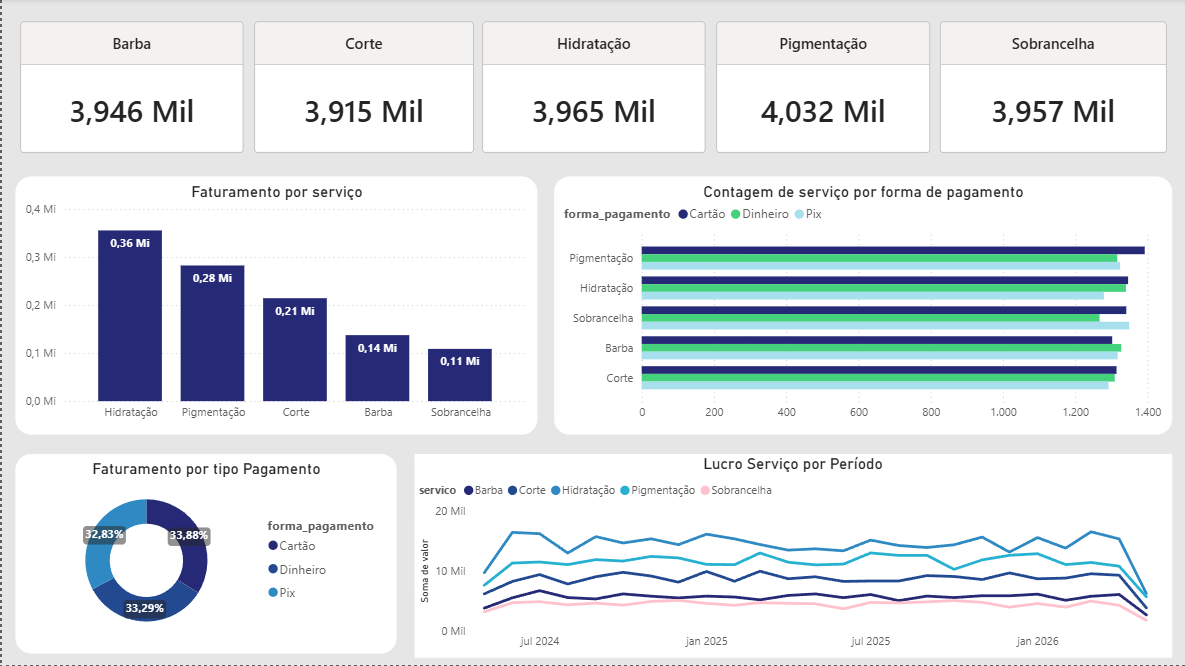

The page's visual inventory and layout, read from the dashboard file:
{"tool":"powerbi","page":{"name":"Serviços","canvas":[1280,720],"ordinal":2},"visuals":[{"type":"cardVisual","fields":{"Rows":["barber atendimentos.servico"],"Data":["Count(barber atendimentos.id_atendimento)"]},"box":[15.1,0,251.3,192.8],"z":0},{"type":"cardVisual","fields":{"Rows":["barber atendimentos.servico"],"Data":["Count(barber atendimentos.id_atendimento)"]},"box":[266.5,0,247.6,192.8],"z":1000},{"type":"cardVisual","fields":{"Rows":["barber atendimentos.servico"],"Data":["Count(barber atendimentos.id_atendimento)"]},"box":[514,0,251.3,192.8],"z":2000},{"type":"cardVisual","fields":{"Rows":["barber atendimentos.servico"],"Data":["Count(barber atendimentos.id_atendimento)"]},"box":[765.9,0,241.3,192.7],"z":3000},{"type":"cardVisual","fields":{"Rows":["barber atendimentos.servico"],"Data":["Count(barber atendimentos.id_atendimento)"]},"box":[1007.3,0,255.1,192.8],"z":4000},{"type":"columnChart","title":"Faturamento por serviço","fields":{"Y":["barber atendimentos.Faturamento"],"Category":["barber atendimentos.servico"]},"box":[14.6,192.7,563.5,278.5],"z":5000},{"type":"lineChart","title":"Lucro Serviço por Período","fields":{"Category":["barber atendimentos.data.Variation.Hierarquia de datas.Ano","barber atendimentos.data.Variation.Hierarquia de datas.Mês"],"Series":["barber atendimentos.servico"],"Y":["Sum(barber atendimentos.valor)"]},"box":[445.3,492.2,817.7,220.2],"z":6000},{"type":"donutChart","title":"Faturamento por tipo Pagamento","fields":{"Category":["barber atendimentos.forma_pagamento"],"Y":["barber atendimentos.Faturamento"]},"box":[14.6,492.2,411.3,215.4],"z":6001},{"type":"clusteredBarChart","title":"Contagem de serviço por forma de pagamento","fields":{"Category":["barber atendimentos.servico"],"Series":["barber atendimentos.forma_pagamento"],"Y":["Count(barber atendimentos.id_atendimento)"]},"box":[595.9,192.7,667.1,278.5],"z":6002}]}

Visuals, with their boxes in screenshot pixels (x1, y1, x2, y2), scaled from the page's 1280x720 canvas onto the 1185x666 screenshot:
cardVisual - barber atendimentos.servico x Count(barber atendimentos.id_atendimento): [left=14, top=0, right=247, bottom=178]
cardVisual - barber atendimentos.servico x Count(barber atendimentos.id_atendimento): [left=247, top=0, right=476, bottom=178]
cardVisual - barber atendimentos.servico x Count(barber atendimentos.id_atendimento): [left=476, top=0, right=709, bottom=178]
cardVisual - barber atendimentos.servico x Count(barber atendimentos.id_atendimento): [left=709, top=0, right=932, bottom=178]
cardVisual - barber atendimentos.servico x Count(barber atendimentos.id_atendimento): [left=933, top=0, right=1169, bottom=178]
"Faturamento por serviço" columnChart: [left=14, top=178, right=535, bottom=436]
"Lucro Serviço por Período" lineChart: [left=412, top=455, right=1169, bottom=659]
"Faturamento por tipo Pagamento" donutChart: [left=14, top=455, right=394, bottom=655]
"Contagem de serviço por forma de pagamento" clusteredBarChart: [left=552, top=178, right=1169, bottom=436]
